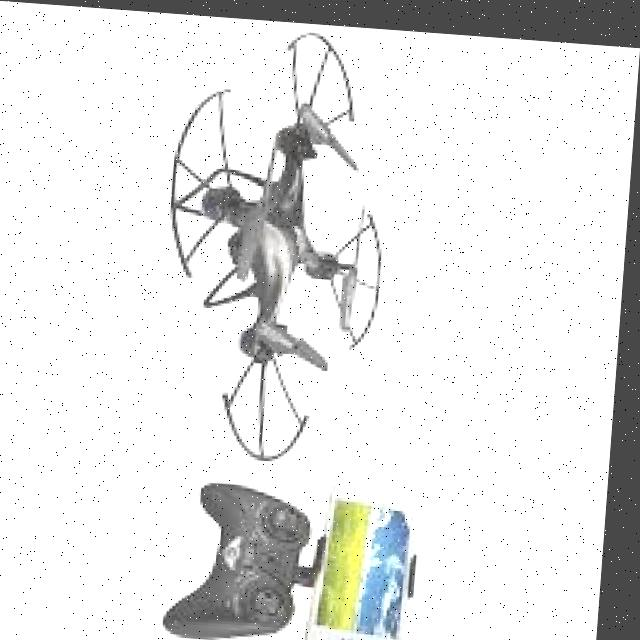drone: (131, 10, 417, 468)
